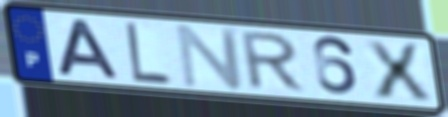6: (310, 34, 362, 100)
A: (56, 18, 124, 81)
L: (122, 19, 174, 87)
N: (173, 22, 247, 91)
R: (240, 30, 309, 94)
X: (361, 38, 436, 102)
